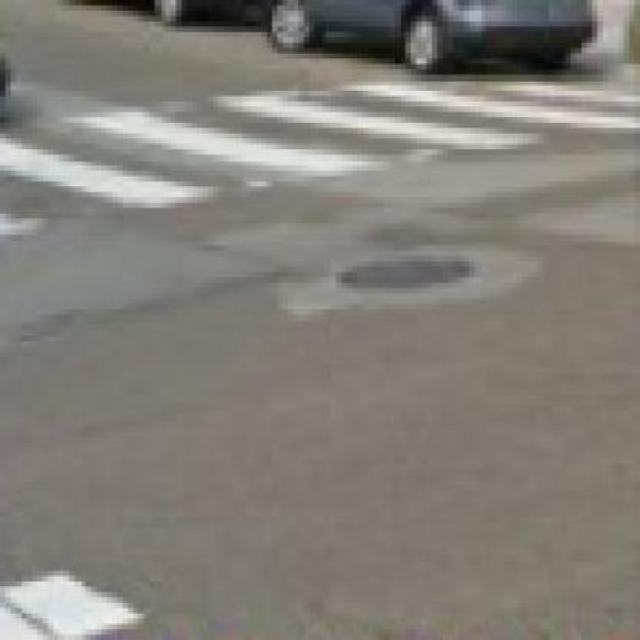crosswalk: (5, 79, 638, 237)
